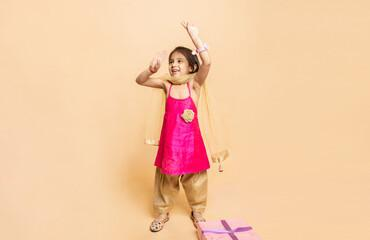Human: (134, 18, 227, 231)
